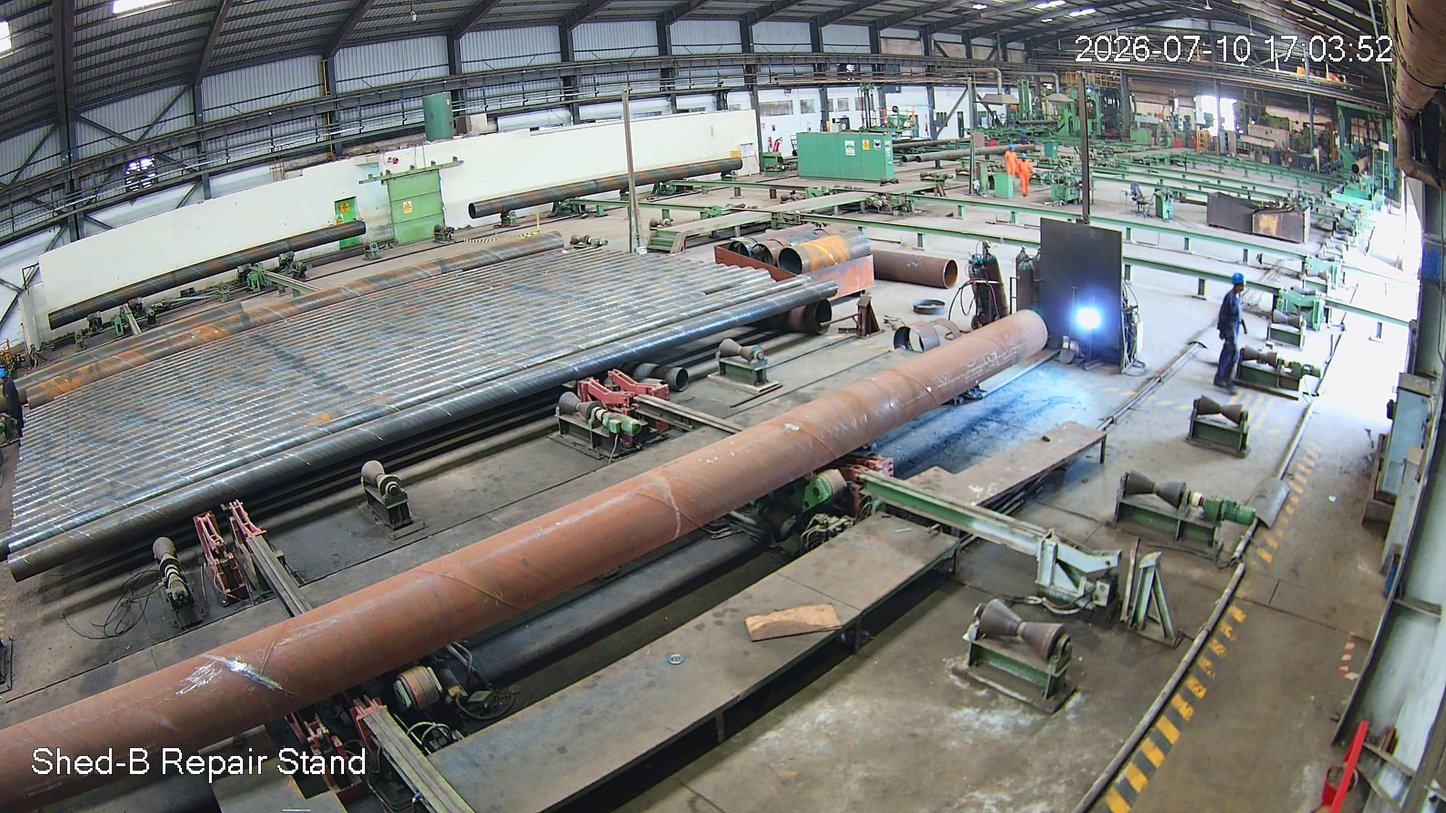Helmet: (1229, 269, 1248, 299)
Person: (1212, 272, 1251, 401)
